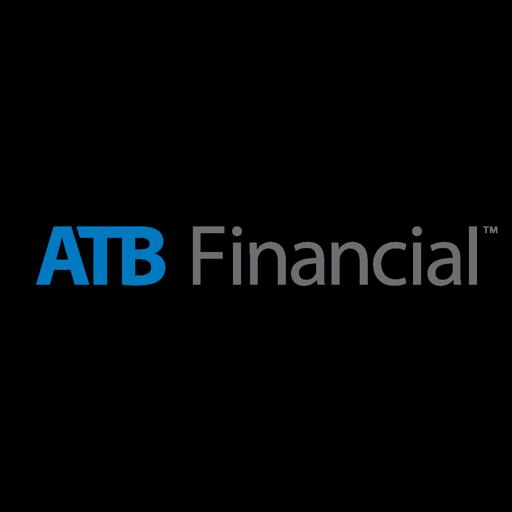ATB Financial: (0, 191, 512, 321)
